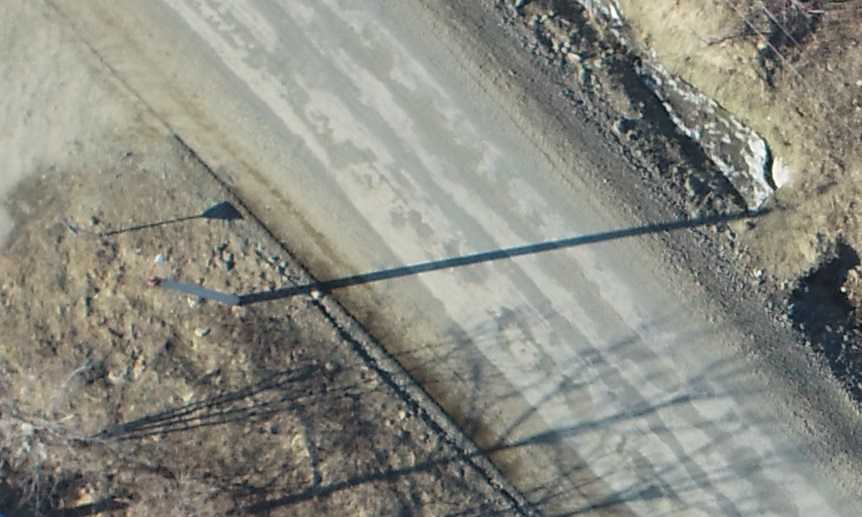opora: (139, 250, 326, 311)
